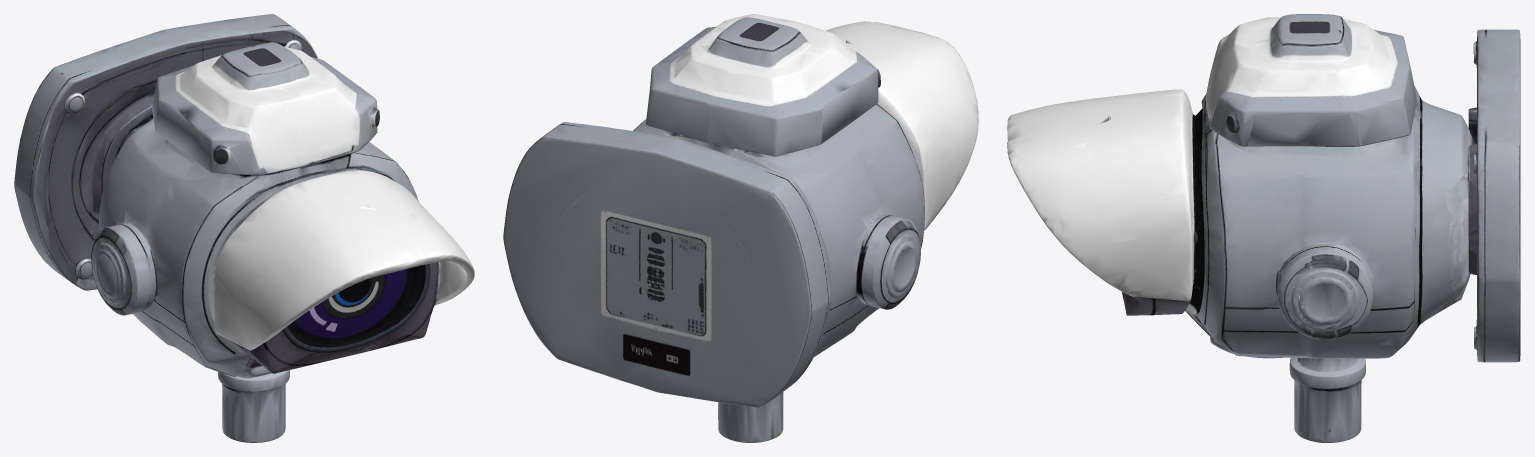
Rendered from camhead2.glb.
The picture shows the model from 3 angles, left to right: view 1: azimuth 30°, elevation 25°; view 2: azimuth 150°, elevation 25°; view 3: azimuth 270°, elevation 25°; orthographic projection. The views are drawn at different scales.
Size of the model in its own units: 1.36 by 1.64 by 1.9.
Materials: 1 (1 with a texture image).
